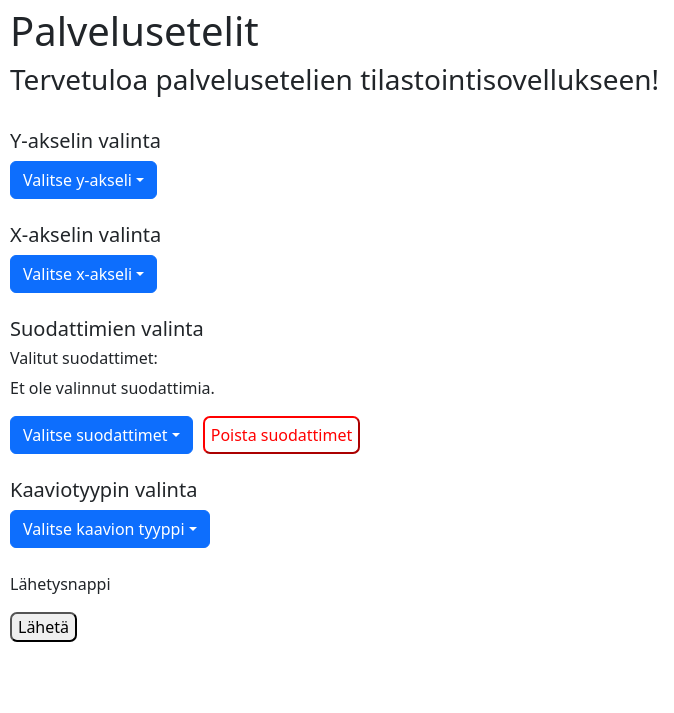
it: App › tests handleSubmit when !yaxis
The image size is (674, 713).
Click the button "Valitse x-akseli": (84, 274) [10,255,157,293]
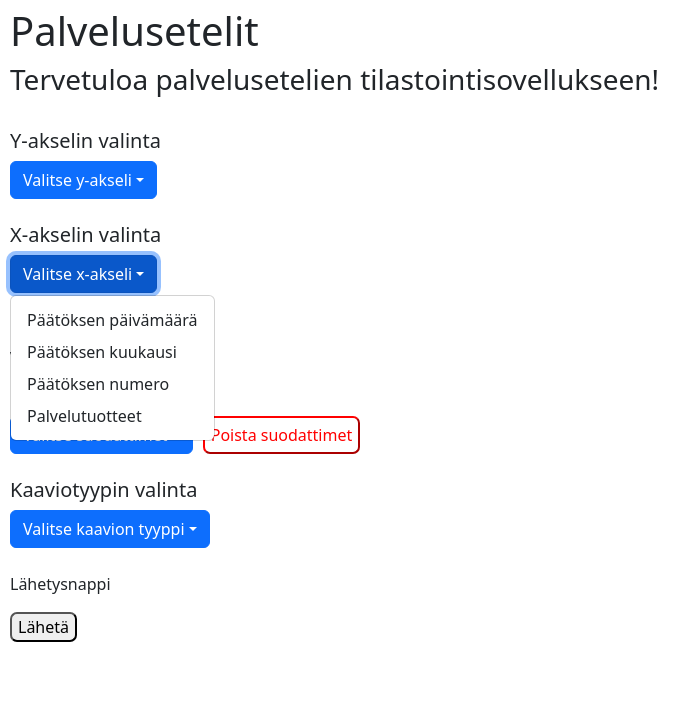
Click the button "Päätöksen kuukausi": (102, 352) [27,341,177,363]
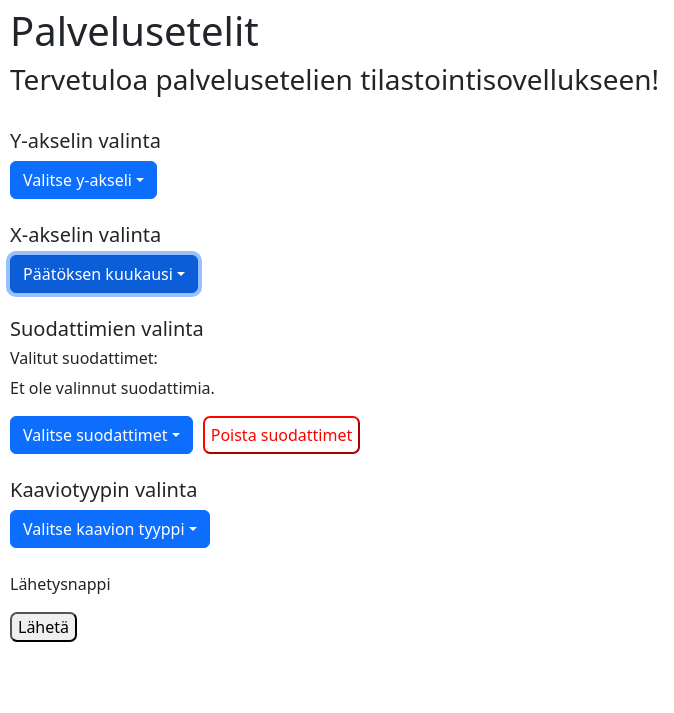
Click the button "Valitse kaavion tyyppi": (110, 529) [10,510,210,548]
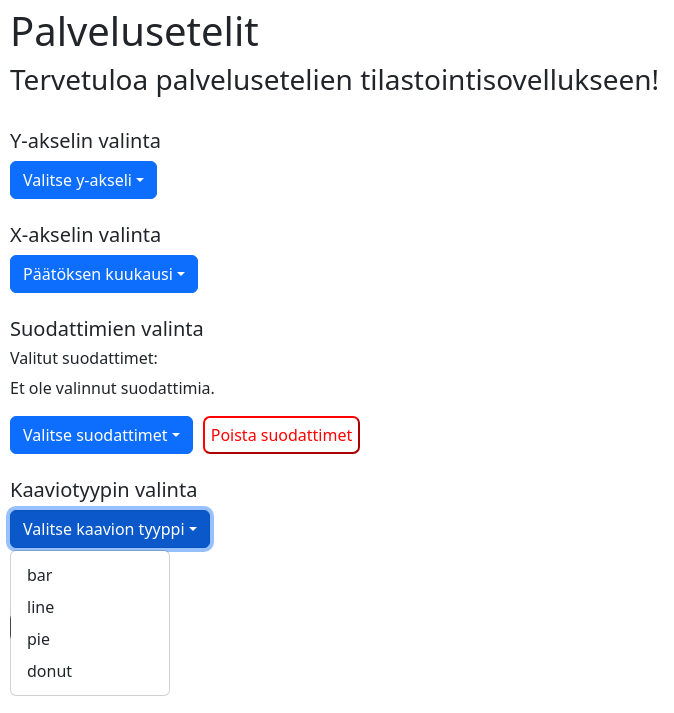
Click the button "bar": (40, 575) [27,564,52,586]
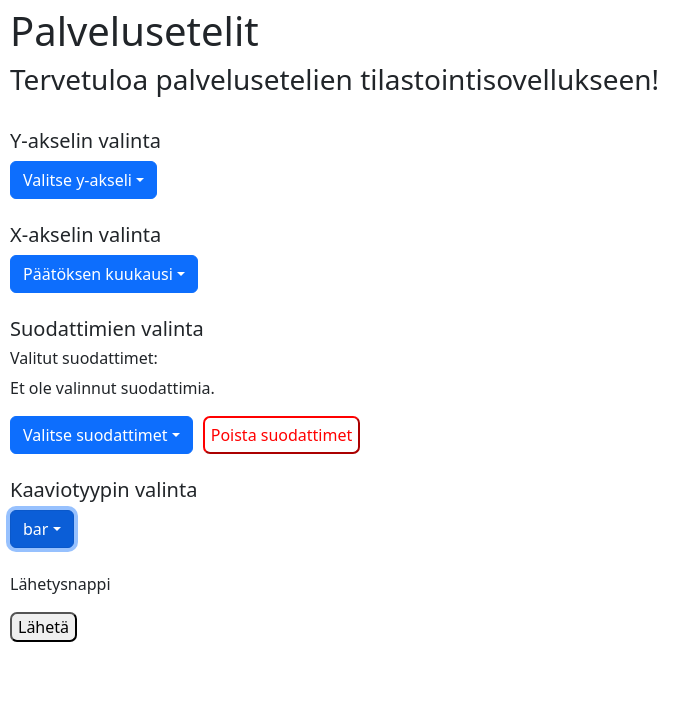
Click the button "Lähetä": (44, 627) [10,612,77,642]
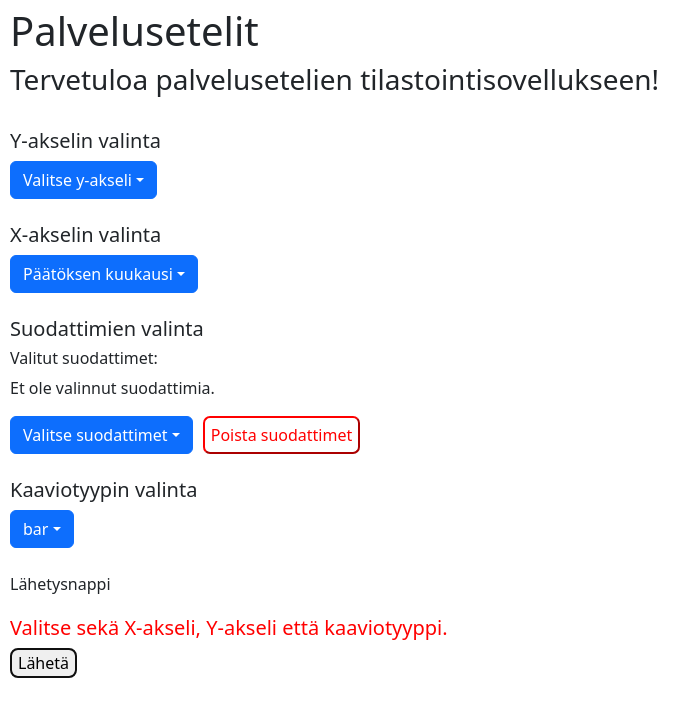
Result: the heading "Valitse sekä X-akseli, Y-akseli että kaaviotyyppi." is shown at [10,614,448,641]
